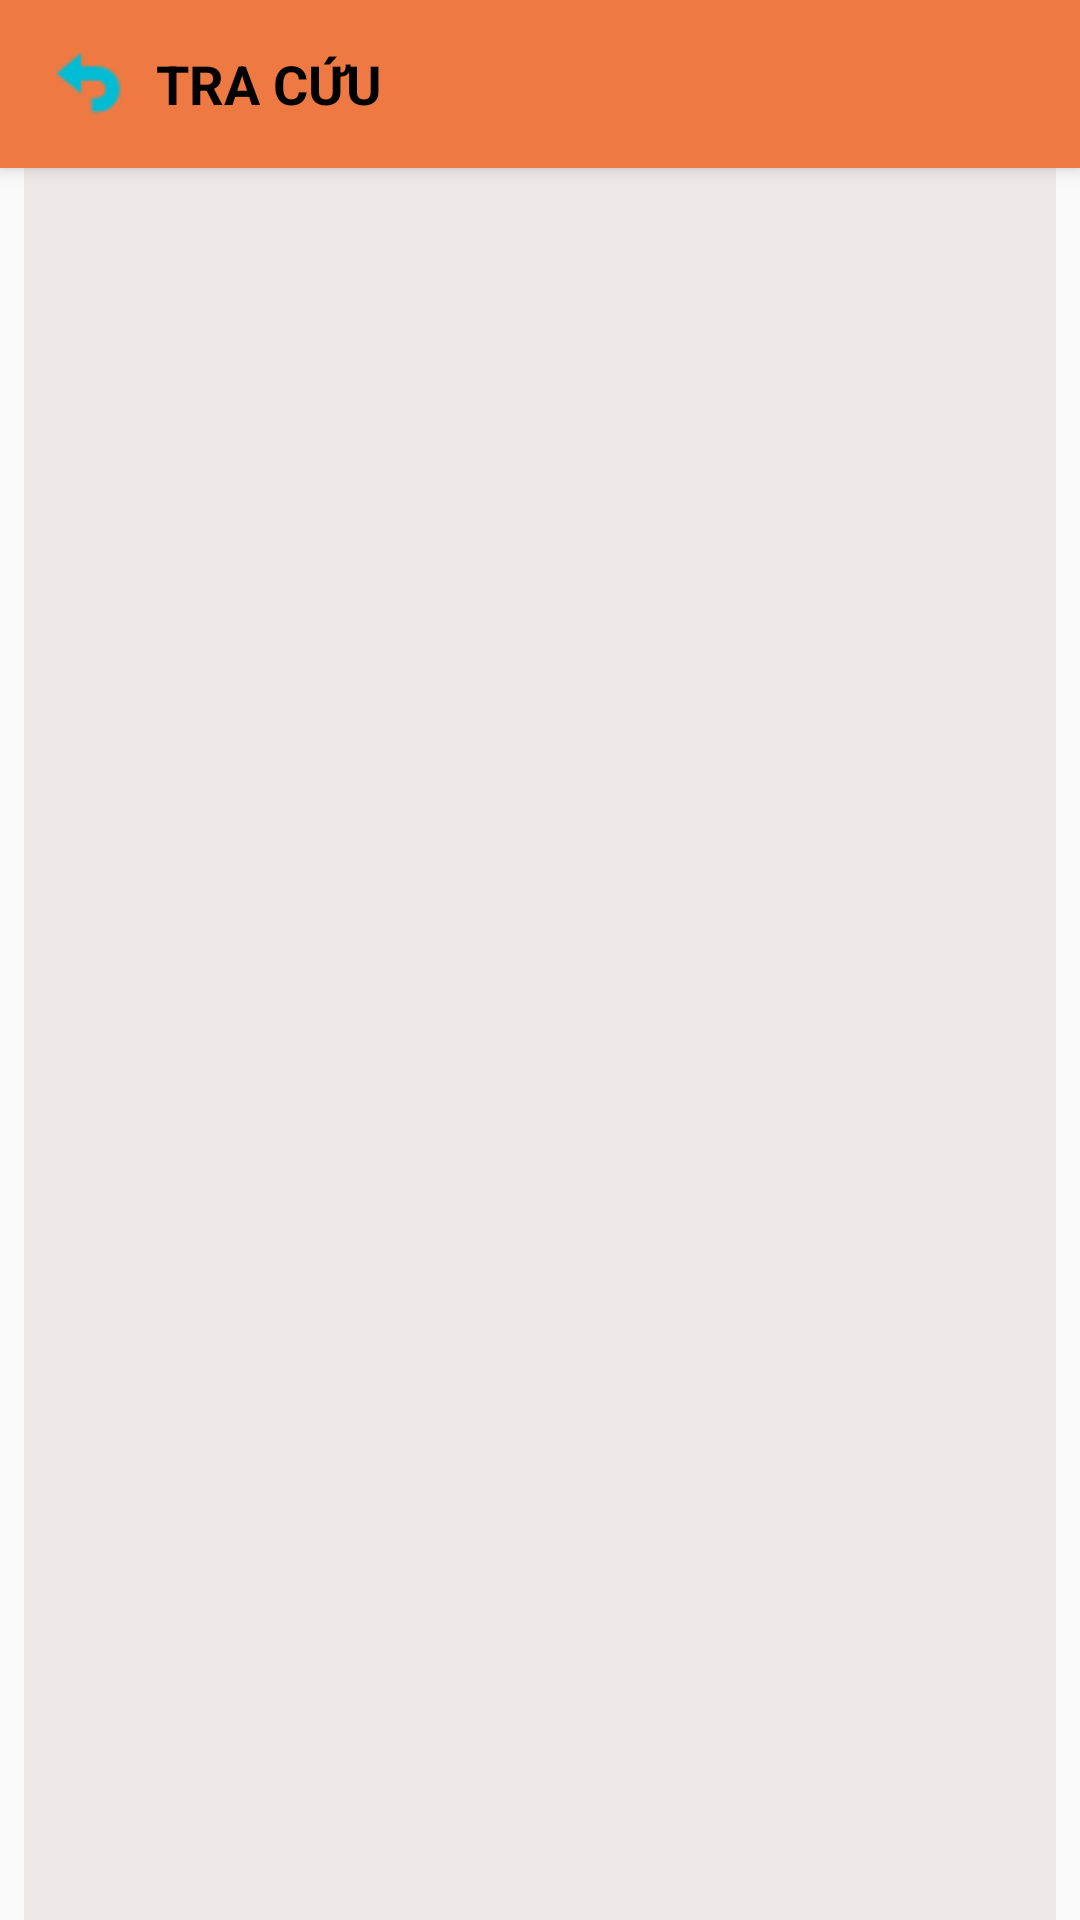

Icons on this 1080x1920 Android screen, each with its box as (x1, y1, x2, y2):
back: (56, 53, 121, 114)
